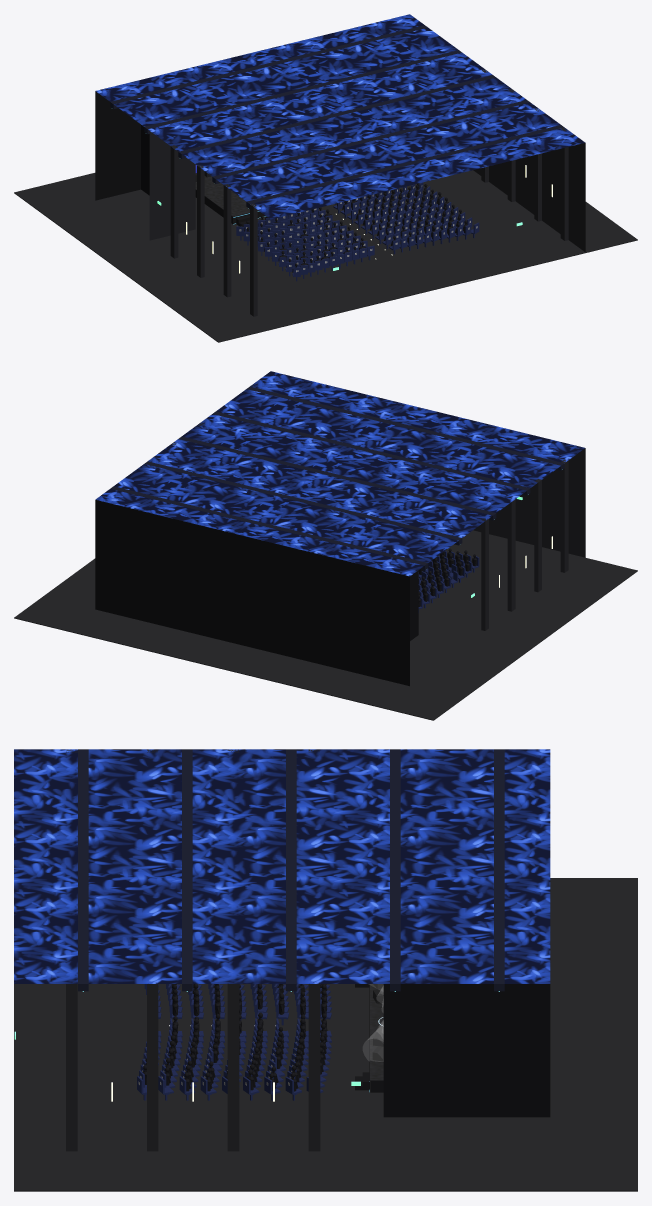
The model's file is stage.glb.
The picture shows the model from 3 angles, top to bottom: view 1: azimuth 30°, elevation 25°; view 2: azimuth 150°, elevation 25°; view 3: azimuth 270°, elevation 25°; orthographic projection. The views are drawn at different scales.
Visible parts, largest first — view 1: ceiling, house_floor, house_walls, audience_seats, drape, audience_people, riser; view 2: ceiling, drape, house_floor, house_walls, audience_seats, audience_people; view 3: ceiling, house_floor, drape, house_walls, audience_seats, audience_people, riser.
Part boxes in pixels (<box>): ceiling: <box>95,14,585,219</box>; house_floor: <box>14,170,637,342</box>; house_walls: <box>149,69,585,316</box>; audience_seats: <box>236,182,479,281</box>; drape: <box>95,91,149,200</box>; audience_people: <box>238,183,467,272</box>; riser: <box>195,176,265,224</box>; ceiling: <box>95,371,584,576</box>; drape: <box>95,500,418,686</box>; house_floor: <box>14,530,637,720</box>; house_walls: <box>171,385,585,630</box>; audience_seats: <box>418,551,479,612</box>; audience_people: <box>418,548,476,606</box>; ceiling: <box>14,749,550,991</box>; house_floor: <box>14,878,637,1191</box>; drape: <box>383,984,550,1117</box>; house_walls: <box>66,749,320,1151</box>; audience_seats: <box>137,984,331,1100</box>; audience_people: <box>142,984,327,1091</box>; riser: <box>369,984,383,1092</box>.
Bounding box in the file's own units: 32 × 8.05 × 27.
Materials: 31 (5 with a texture image).
